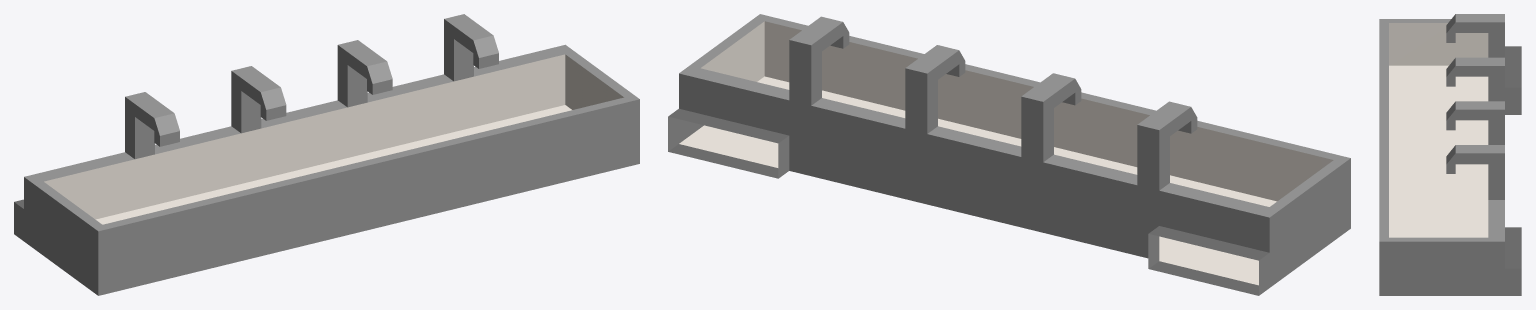
File: BigSink.fbx
3 renders of one model, left to right at view 1: azimuth 30°, elevation 25°; view 2: azimuth 150°, elevation 25°; view 3: azimuth 270°, elevation 25°, orthographic. The views are drawn at different scales.
Parts seen in each view (by area): view 1: BigSink; view 2: BigSink; view 3: BigSink.
Boxes of the visible parts, box(x1,y1,x2,y2) form: BigSink: box(14, 14, 639, 295); BigSink: box(668, 14, 1350, 295); BigSink: box(1379, 14, 1521, 295).
Size of the model in its own units: 899 by 190 by 243.
